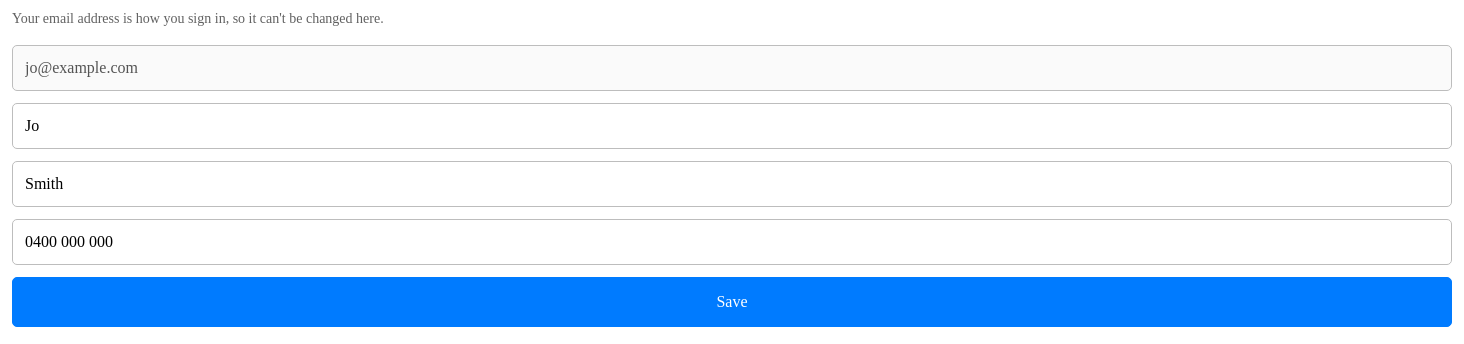
Scenario: CustomerDetailsForm › says when it has saved, until something is changed again
The image size is (1464, 344).
Click the button "Save". click: (732, 302)
box: top-left (12, 277), bottom-right (1452, 327)
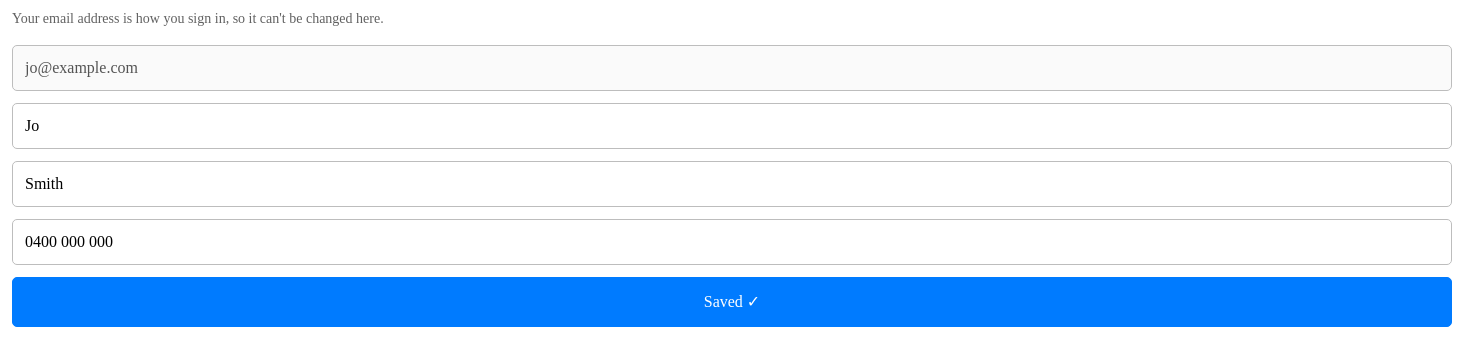
Result: the button "Saved ✓" is shown at top-left (12, 277), bottom-right (1452, 327)
Replace the text in the field named "Last name" with "Jones". click: (732, 184)
box: top-left (12, 161), bottom-right (1452, 207)
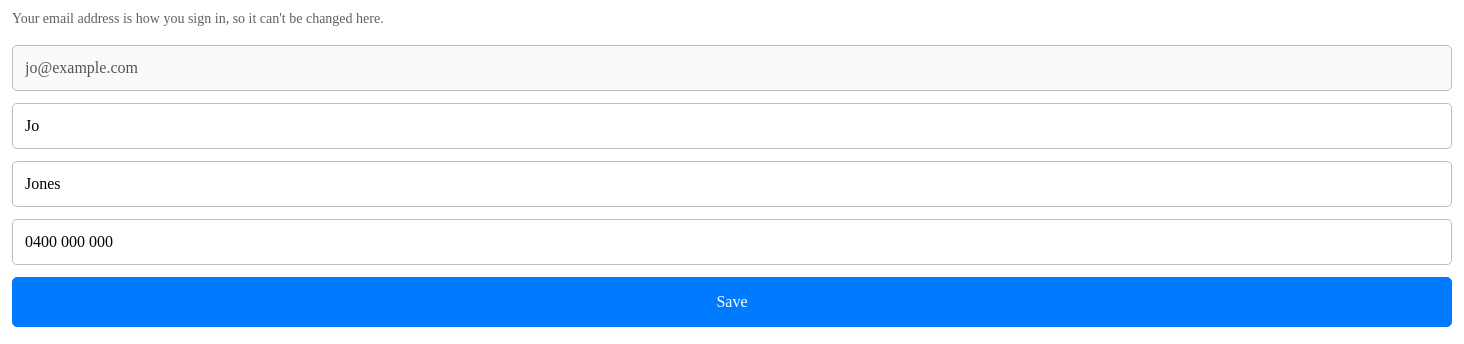
Result: the button "Save" is shown at top-left (12, 277), bottom-right (1452, 327)
